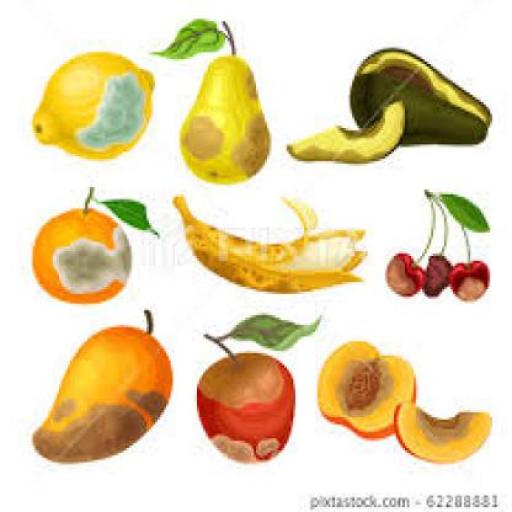biodegradable: (28, 308, 171, 462), (172, 194, 366, 292), (348, 45, 490, 145), (31, 50, 151, 157), (177, 52, 270, 183), (192, 351, 294, 458), (315, 339, 416, 439), (28, 206, 130, 301), (287, 95, 402, 161), (392, 400, 486, 460), (88, 185, 158, 235), (225, 313, 318, 348), (151, 16, 221, 54), (435, 192, 486, 233), (446, 256, 488, 302), (385, 249, 420, 294), (420, 254, 451, 294)
